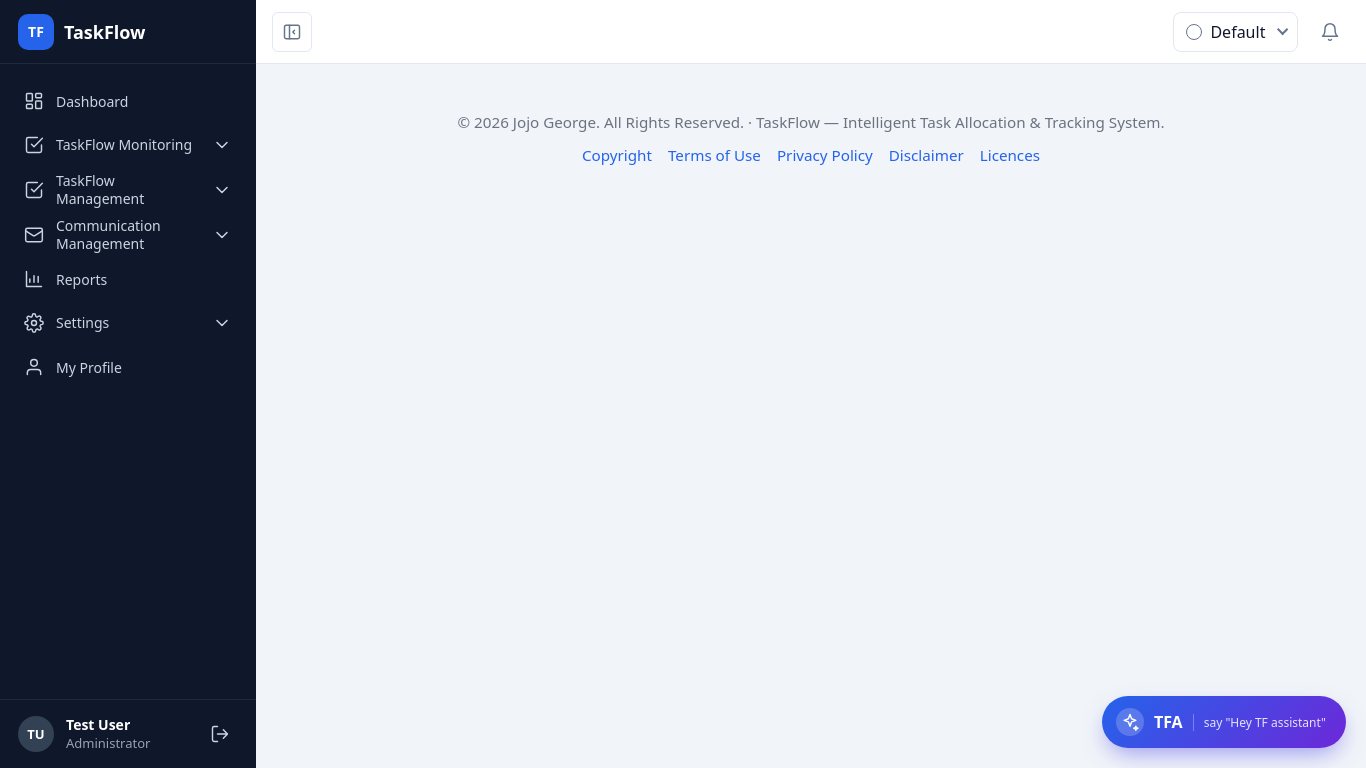
Test: ShellComponent › navigates to a sub-module when its child entry is clicked
The width and height of the screenshot is (1366, 768).
Click the button with class "nav__parent" showing "TaskFlow Management" at point(128, 190), box x1=12 y1=168 x2=244 y2=211
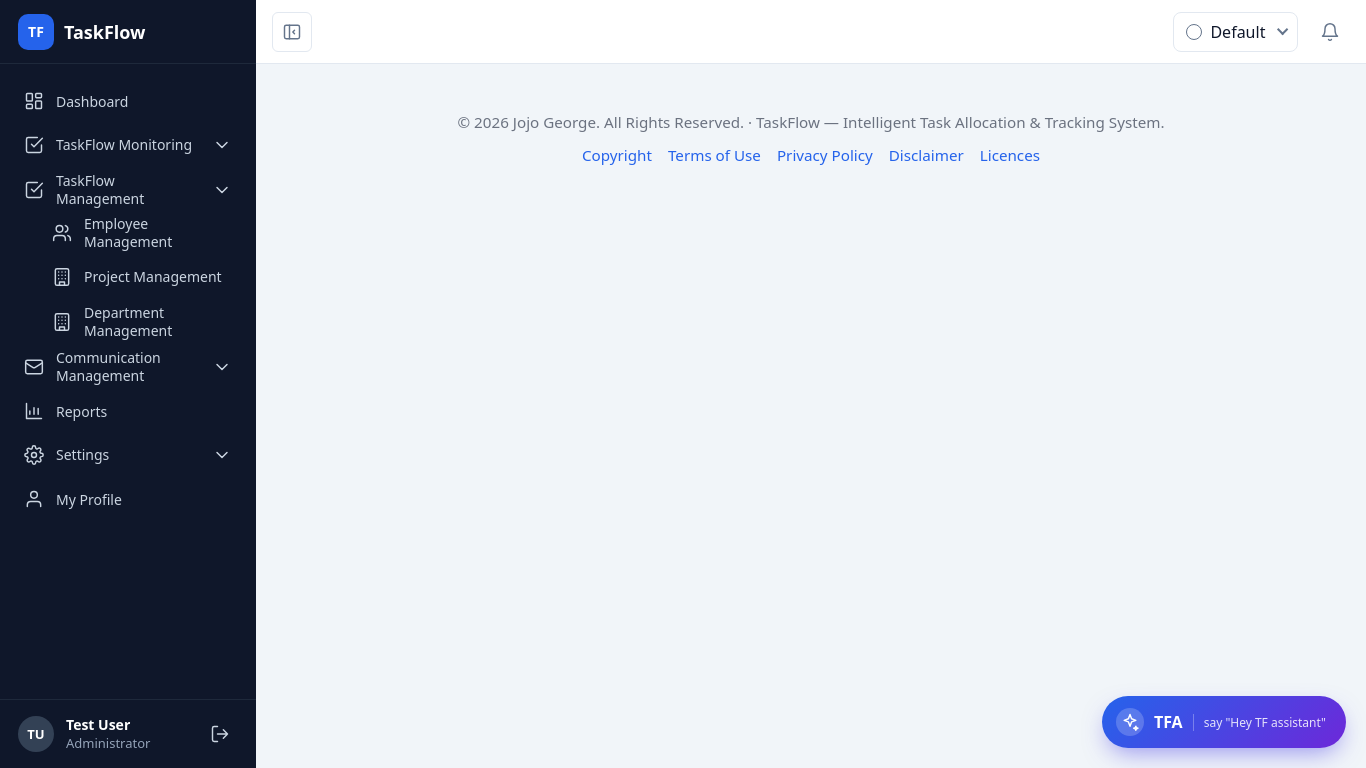
Click the link with class "nav__item--child" showing "Employee Management" at point(128, 232), box x1=84 y1=214 x2=172 y2=250
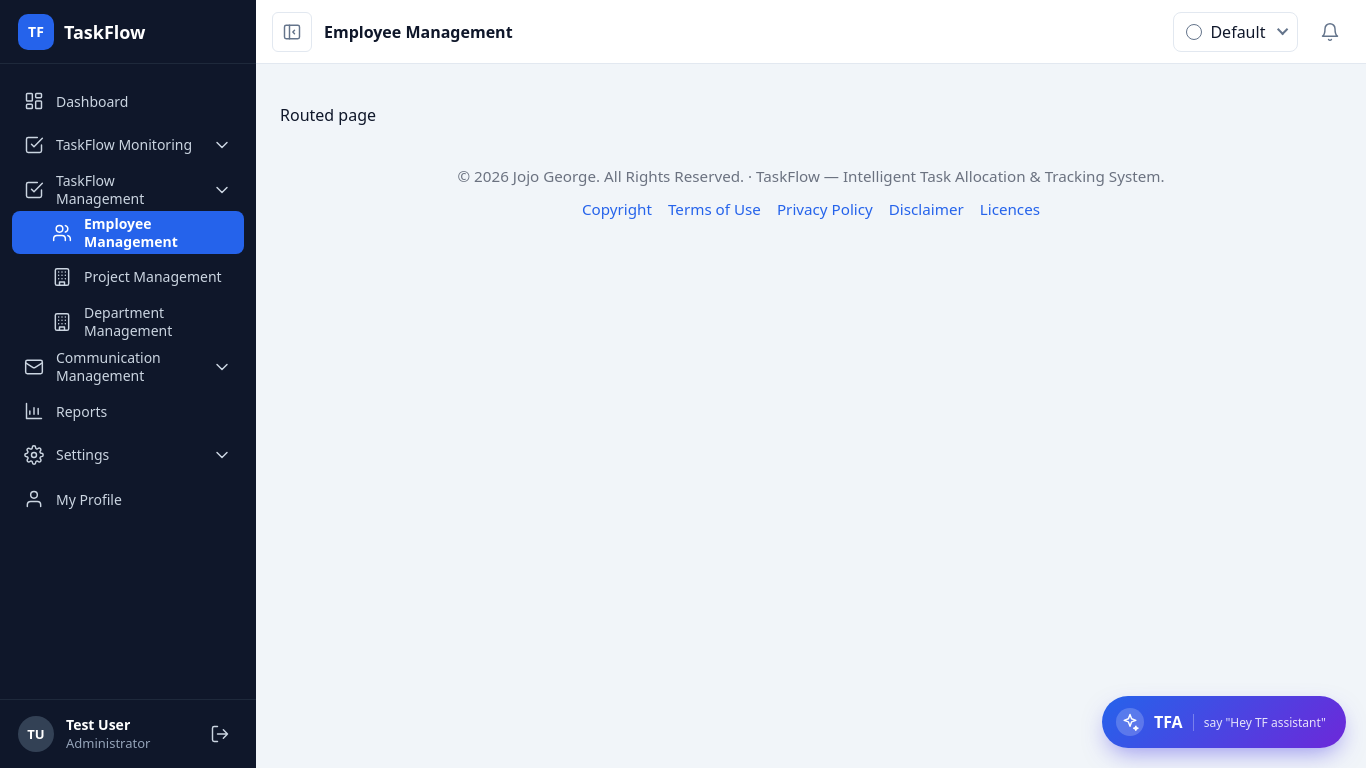
Check: the text with class "nav__text" below "Dashboard" reads "Employee Management", box x1=84 y1=214 x2=178 y2=250
Check: the text "Routed page" is shown, box x1=280 y1=104 x2=376 y2=126
